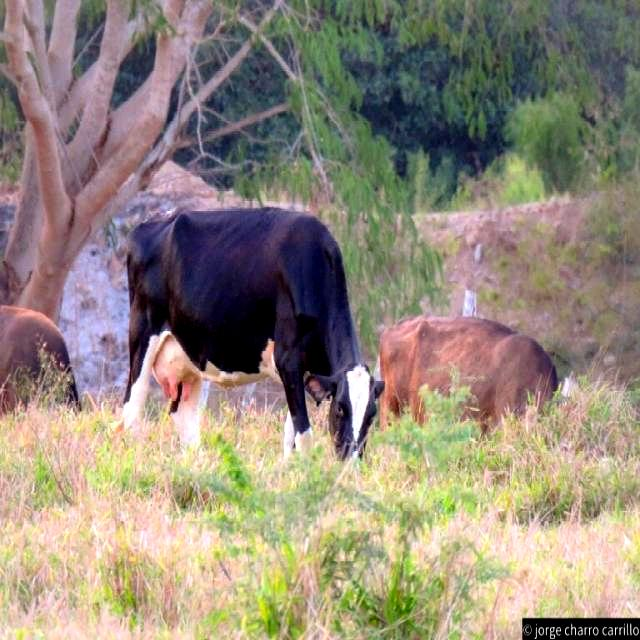COW: (119, 208, 381, 458)
